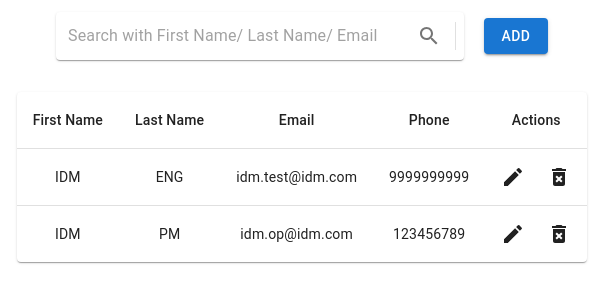
Test: Home page should render › it should return proper search result
The width and height of the screenshot is (605, 281).
Type "PM" into the field with placeholder "Search with First Name/ Last Name/ Email".
click(238, 36); type("PM")  # box x1=68 y1=20 x2=407 y2=52
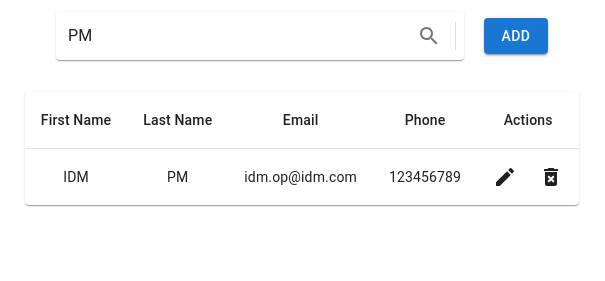
Now the text "IDM" is shown once, box x1=25 y1=148 x2=127 y2=205
